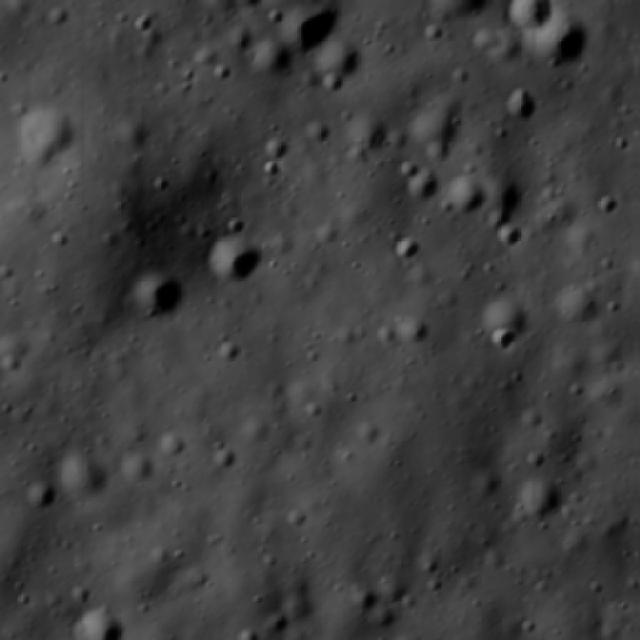crater: (474, 286, 534, 362), (284, 0, 351, 63), (530, 16, 595, 73), (212, 235, 274, 292), (512, 475, 570, 531), (130, 275, 195, 319), (449, 176, 496, 222), (498, 87, 544, 131), (65, 611, 127, 640), (389, 229, 426, 269), (403, 170, 446, 204), (19, 486, 55, 516), (224, 212, 253, 238), (637, 46, 640, 88)
